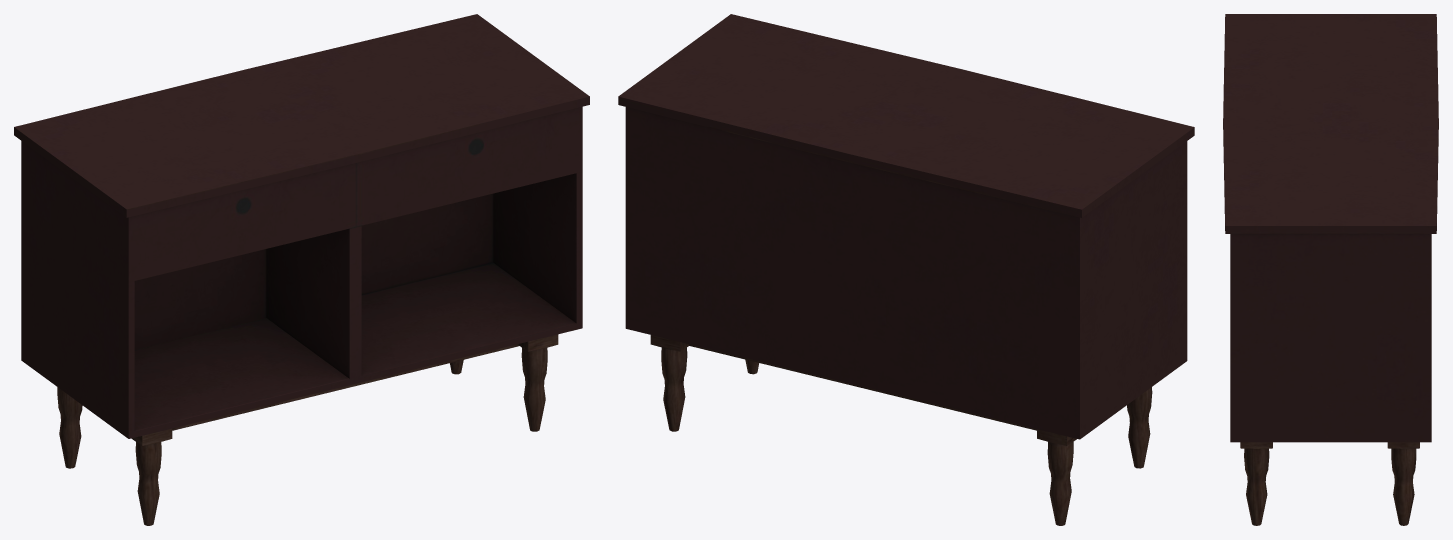
File: SM_CabinetShort.fbx
3 renders of one model, left to right at view 1: azimuth 30°, elevation 25°; view 2: azimuth 150°, elevation 25°; view 3: azimuth 270°, elevation 25°, orthographic. The views are drawn at different scales.
Parts seen in each view (by area): view 1: CabinetShort; view 2: CabinetShort; view 3: CabinetShort.
Part boxes in pixels (<box>): CabinetShort: <box>14,14,589,525</box>; CabinetShort: <box>618,14,1194,525</box>; CabinetShort: <box>1223,14,1438,525</box>.
Bounding box in the file's own units: 199 × 138 × 85.68.
